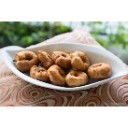vada: (15, 52, 36, 69), (70, 50, 88, 69), (67, 69, 88, 85), (48, 64, 65, 83), (30, 64, 49, 81), (88, 63, 111, 77), (51, 51, 72, 66), (38, 49, 54, 64)
